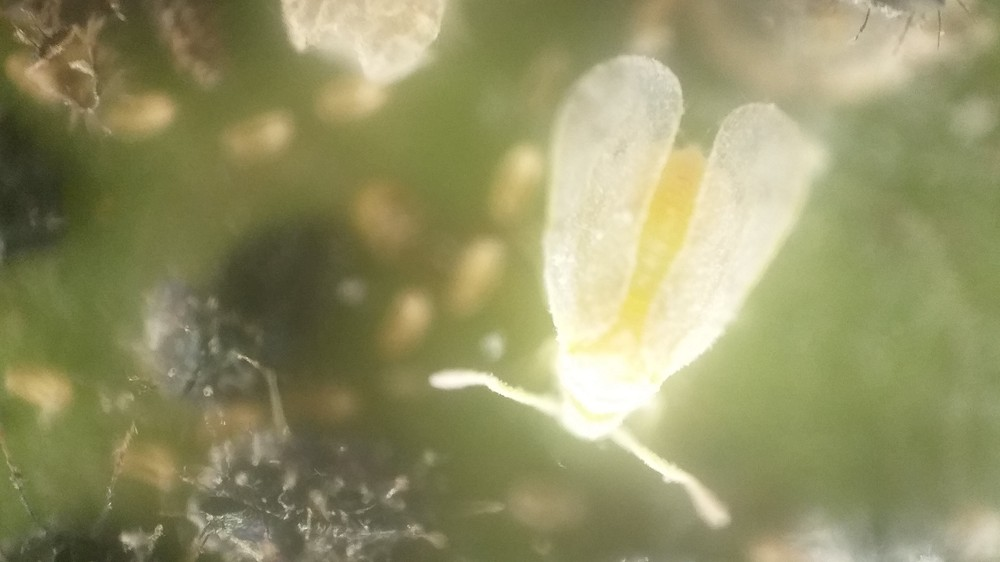Mosca Blanca: (420, 41, 852, 542)
